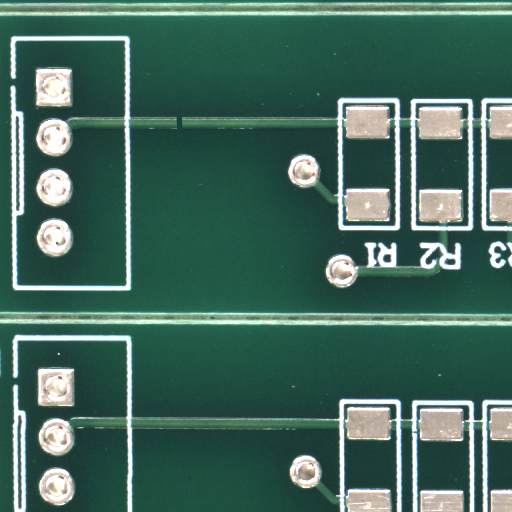Open_circuit: (179, 121, 186, 137)
